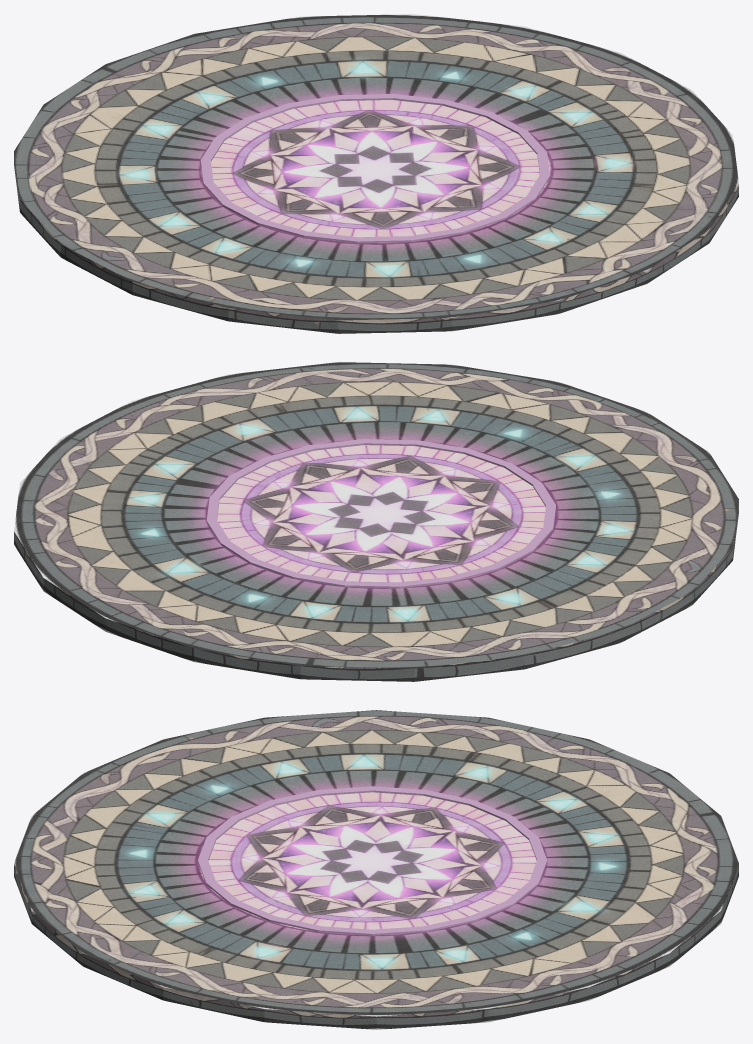
File: prop_eco_loom_circle.fbx
3 views of the same model, one above another, from view 1: azimuth 30°, elevation 25°; view 2: azimuth 150°, elevation 25°; view 3: azimuth 270°, elevation 25° (orthographic).
Visible parts, largest first — view 1: Eco_loom_circle; view 2: Eco_loom_circle; view 3: Eco_loom_circle.
Part boxes in pixels (x1,y1,x2,y2): Eco_loom_circle: (14,14,738,333); Eco_loom_circle: (14,362,738,681); Eco_loom_circle: (14,710,738,1029).
Size of the model in its own units: 400 by 9.16 by 400.
2 materials, 1 textured.
